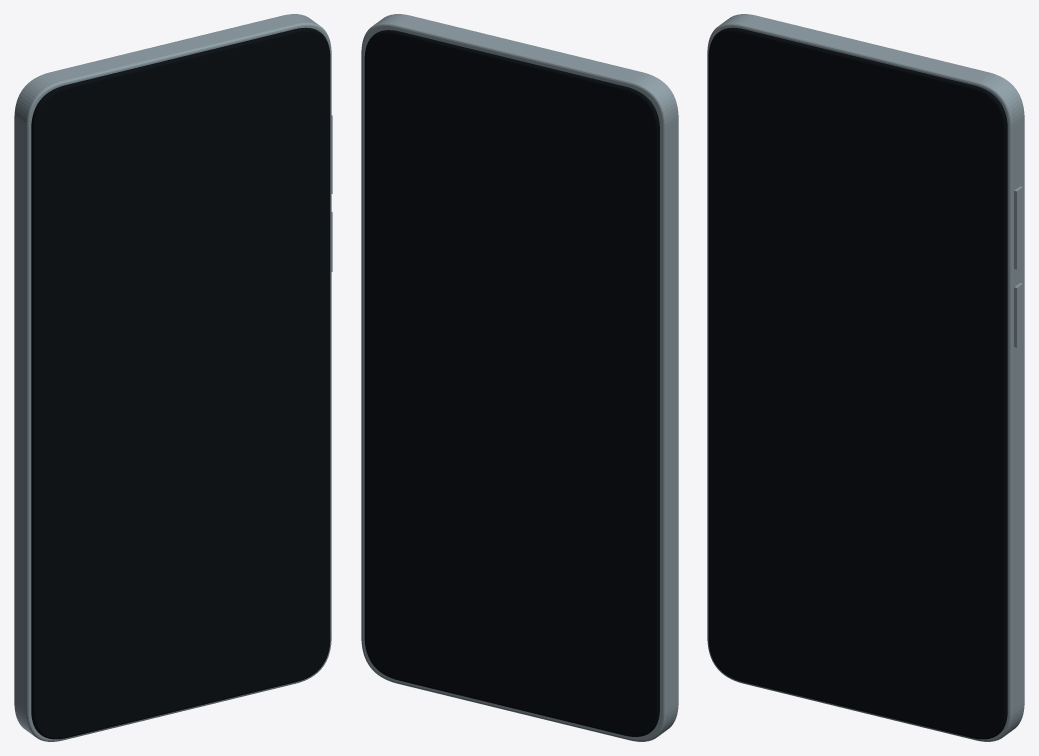
File: simple-android.glb
The picture shows the model from 3 angles, left to right: view 1: azimuth 30°, elevation 25°; view 2: azimuth 150°, elevation 25°; view 3: azimuth 330°, elevation 25°; orthographic projection.
Parts seen in each view (by area): view 1: Polished screen bezel, Titanium unibody; view 2: Back panel, Titanium unibody; view 3: Polished screen bezel, Titanium unibody, Simple Titanium Android.
Boxes of the visible parts, x1=… form: Polished screen bezel: x1=31, y1=27, x2=330, y2=739; Titanium unibody: x1=14, y1=14, x2=331, y2=741; Back panel: x1=364, y1=30, x2=659, y2=736; Titanium unibody: x1=361, y1=14, x2=678, y2=741; Polished screen bezel: x1=708, y1=27, x2=1007, y2=739; Titanium unibody: x1=707, y1=14, x2=1024, y2=741; Simple Titanium Android: x1=1014, y1=186, x2=1022, y2=347.
Size of the model in its own units: 3.5 by 7.17 by 0.365.
